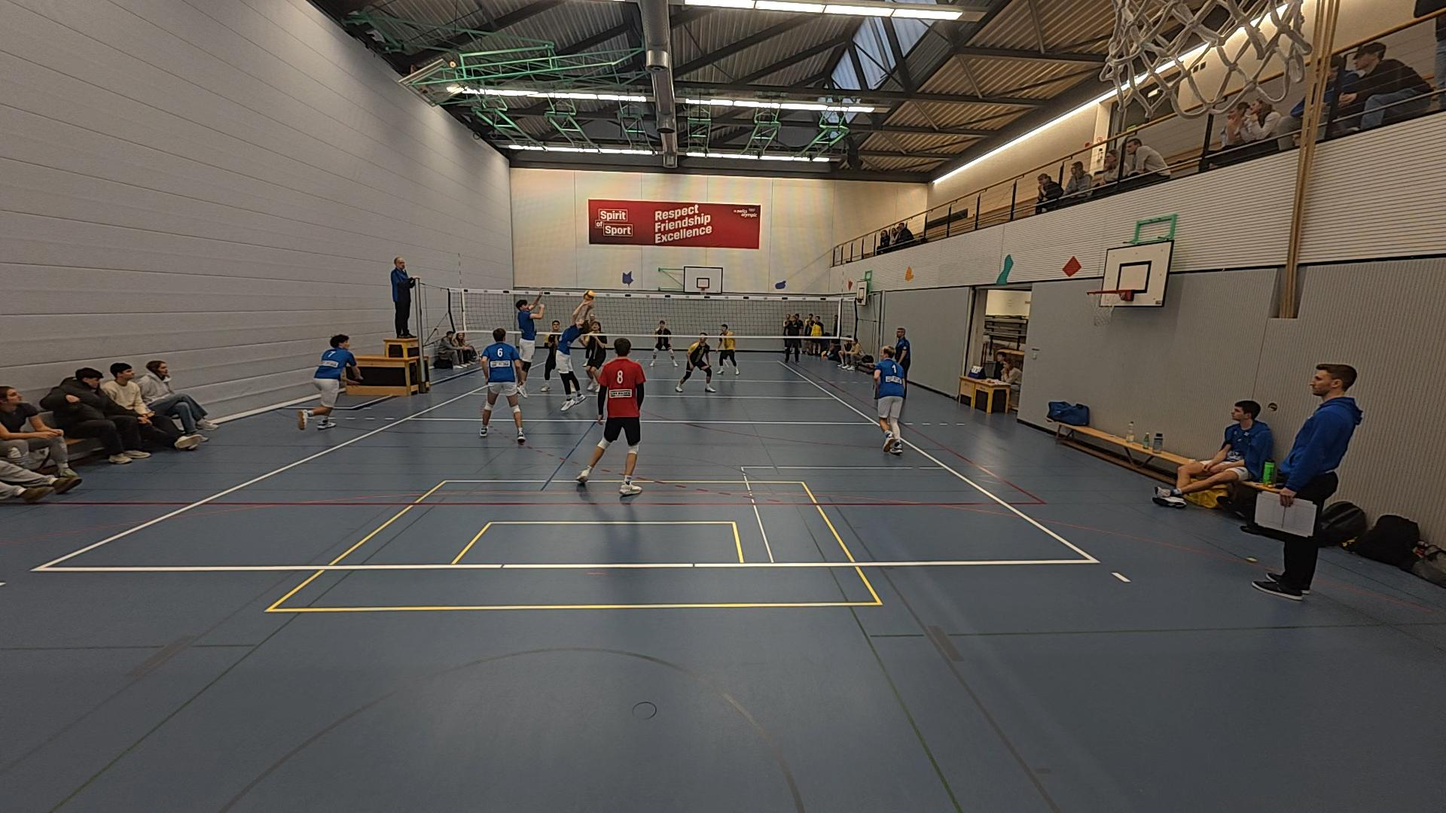Player: (575, 338, 646, 497), (297, 333, 359, 431), (479, 327, 529, 442), (510, 289, 549, 398), (871, 340, 907, 455), (675, 332, 716, 394), (536, 320, 569, 394), (582, 325, 610, 396), (648, 317, 675, 371), (716, 321, 740, 376)
Set: (557, 292, 600, 406)
ball: (901, 265, 916, 280), (583, 290, 596, 301)
